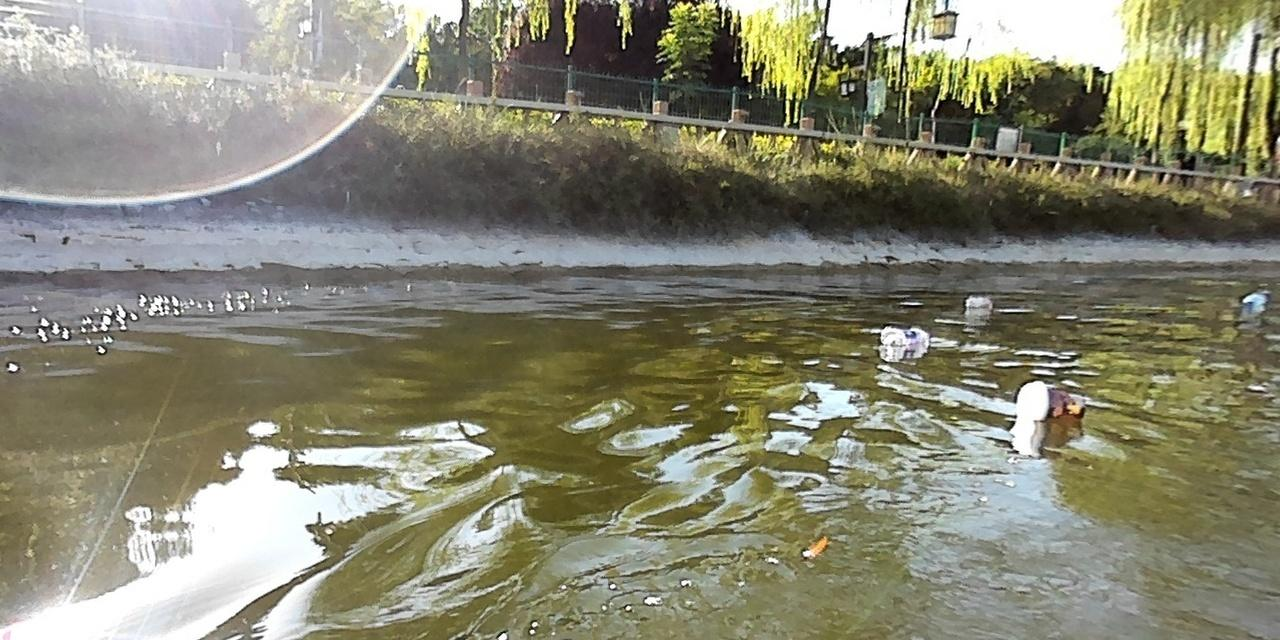bottle: (1009, 374, 1090, 421), (875, 321, 931, 347), (1238, 287, 1269, 309), (962, 292, 997, 311)
